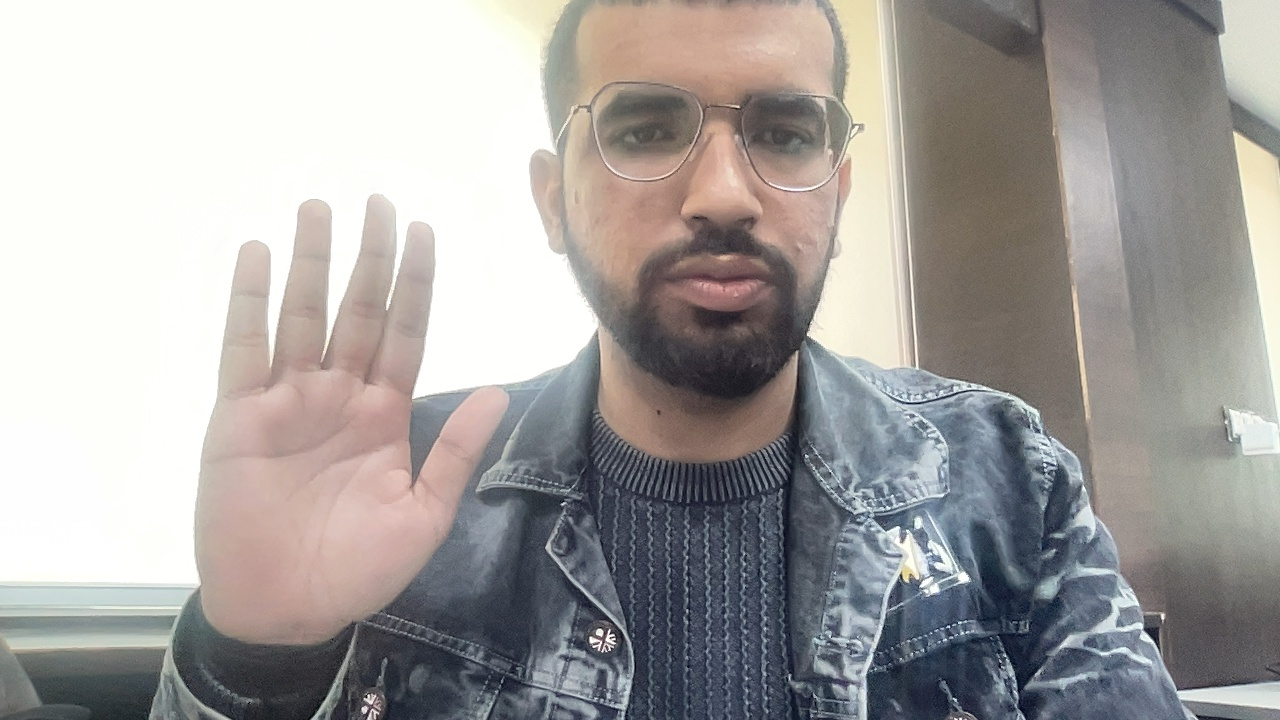Hello: (198, 162, 520, 668)
